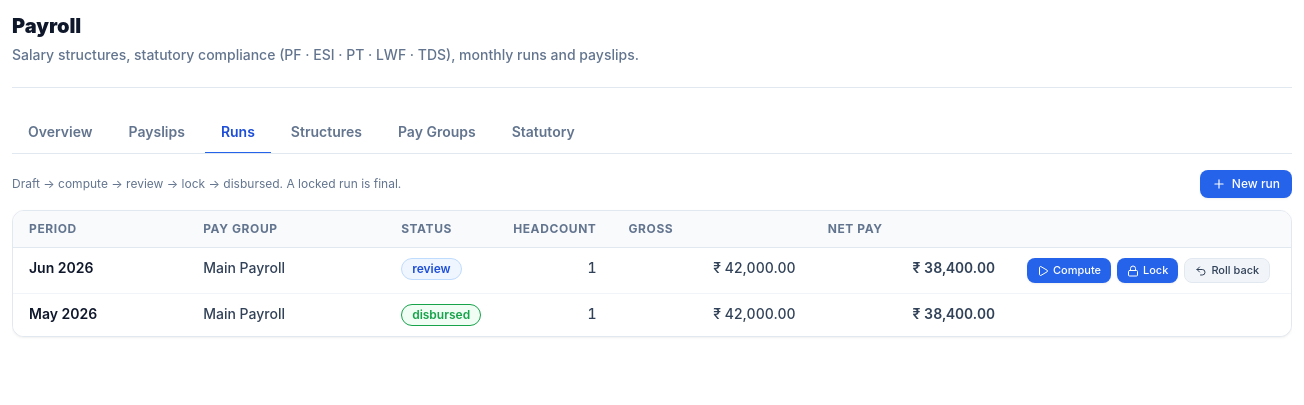
Test case: runs › 🔴 surfaces skipped employees after a compute
What coordinates should you click on to do the following:
click the button "Compute"
I would click on:
 (1069, 271)
Its box is [1027,258,1111,284].
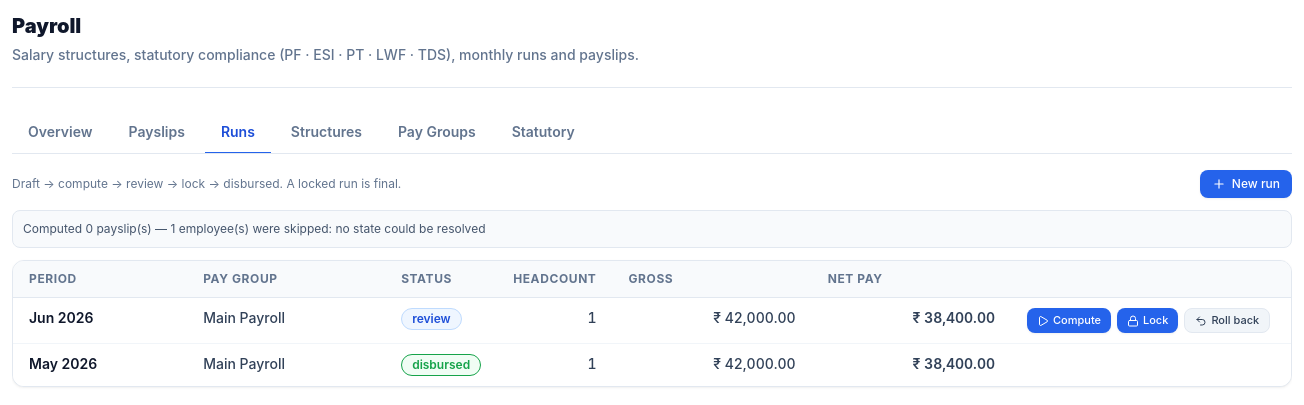
Now the message shows "1 employee(s) were skipped", box [23,221,486,236]
Now the message shows "no state could be resolved", box [23,221,486,236]
